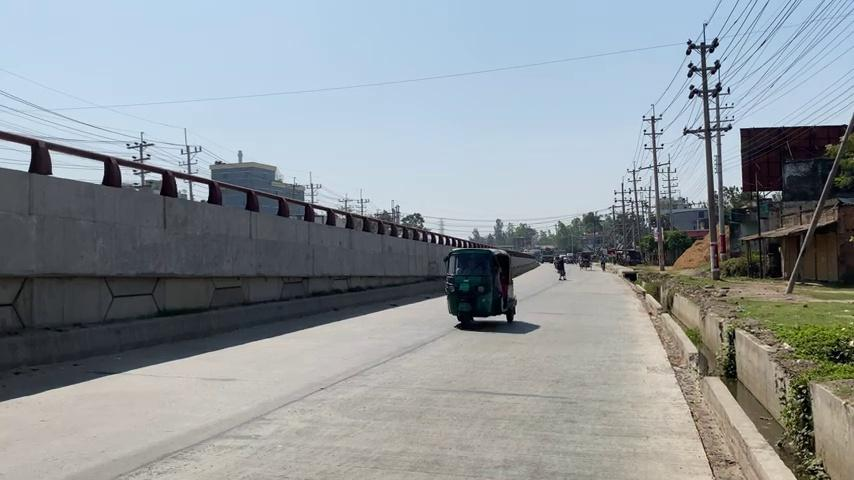Fallen-tree: (0, 128, 438, 376)
Garbage: (784, 113, 853, 294), (642, 104, 666, 271)
Garbage-bin: (700, 337, 840, 480)
Rickshaw: (442, 246, 540, 325)
